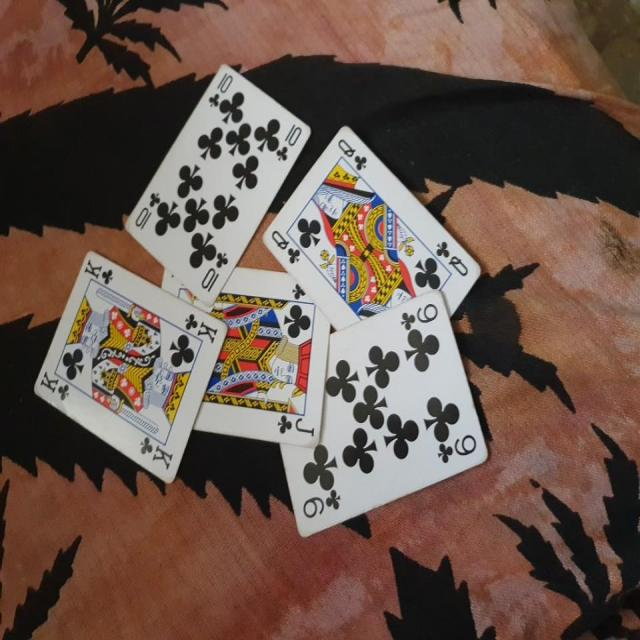10 Trefoils: (123, 65, 310, 305)
9 Trefoils: (279, 289, 490, 540)
J Trefoils: (158, 263, 331, 445)
K Trefoils: (31, 248, 229, 484)
Q Trefoils: (258, 124, 482, 332)
